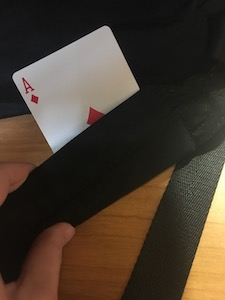AceOfDiamonds: (9, 23, 142, 154)
